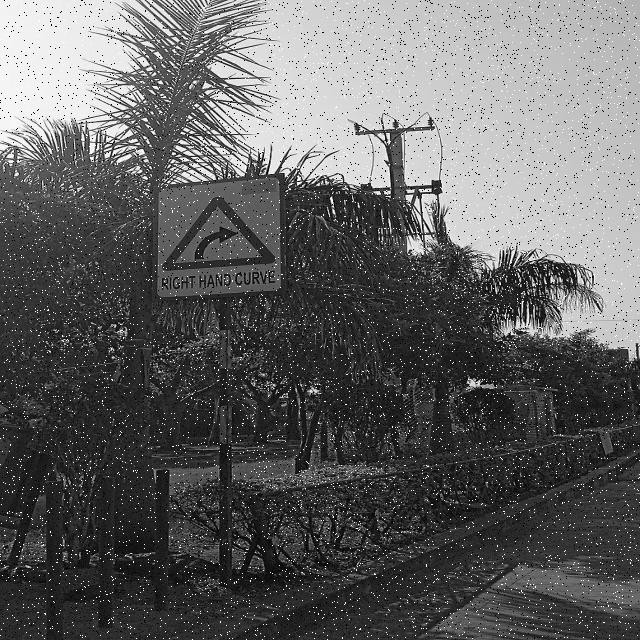Righthand_curve: (163, 185, 277, 274)
